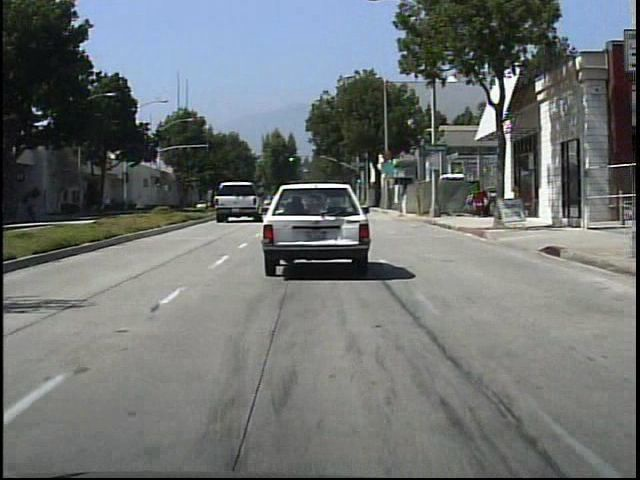person: (24, 195, 43, 226)
